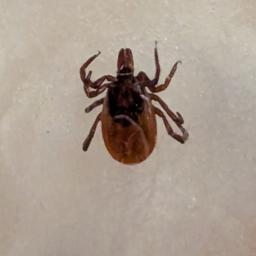Ixodes scapularis: (79, 42, 188, 165)
